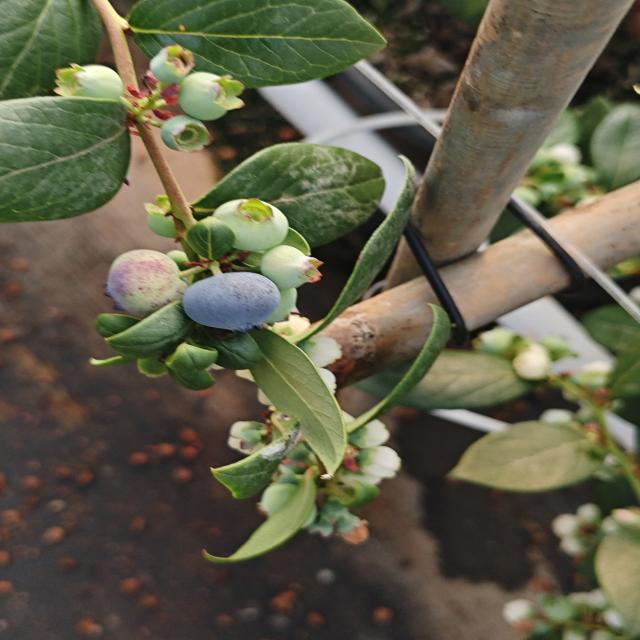ripe: (177, 269, 290, 333)
